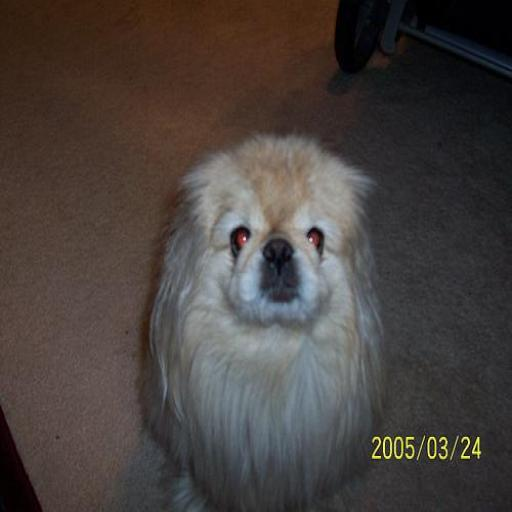dog_face: (181, 149, 377, 338)
